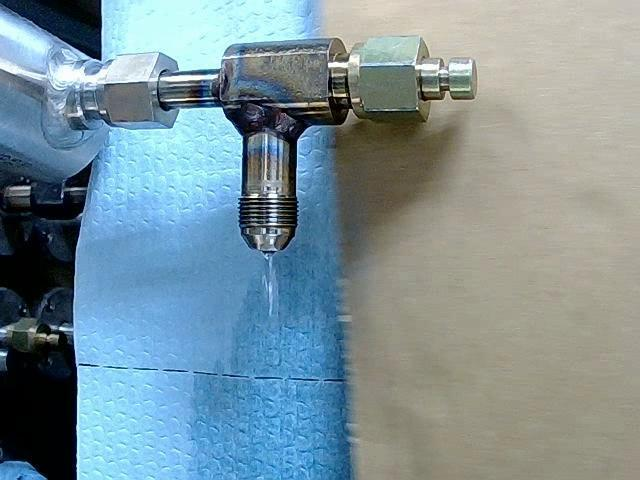water drop: (260, 253, 280, 319)
